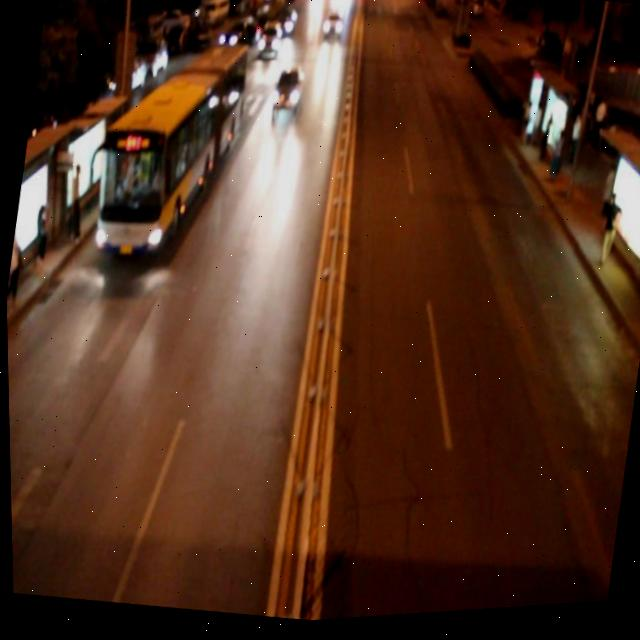car: (268, 65, 307, 120)
truck: (255, 22, 283, 62)
van: (87, 31, 251, 273)
